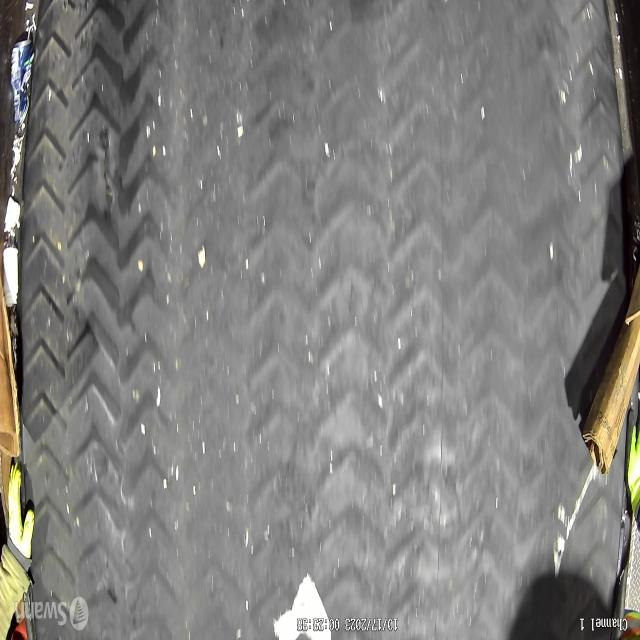can: (10, 39, 34, 126)
